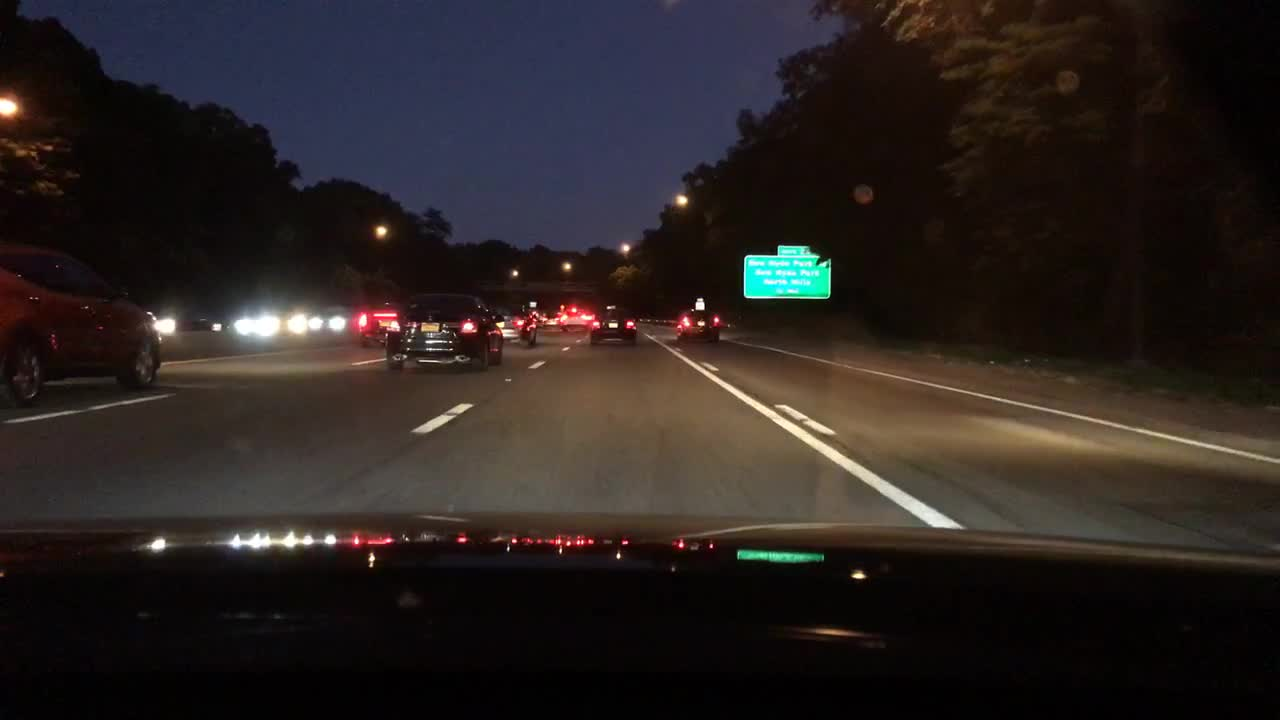car: (0, 220, 164, 411), (384, 292, 504, 372), (353, 301, 406, 349), (288, 299, 350, 340), (589, 301, 639, 347), (230, 306, 282, 350), (675, 295, 722, 343), (495, 304, 540, 349), (153, 311, 222, 334), (556, 300, 592, 332), (540, 310, 559, 329)
traffic sign: (741, 255, 832, 298), (853, 184, 875, 207), (776, 243, 813, 254)
